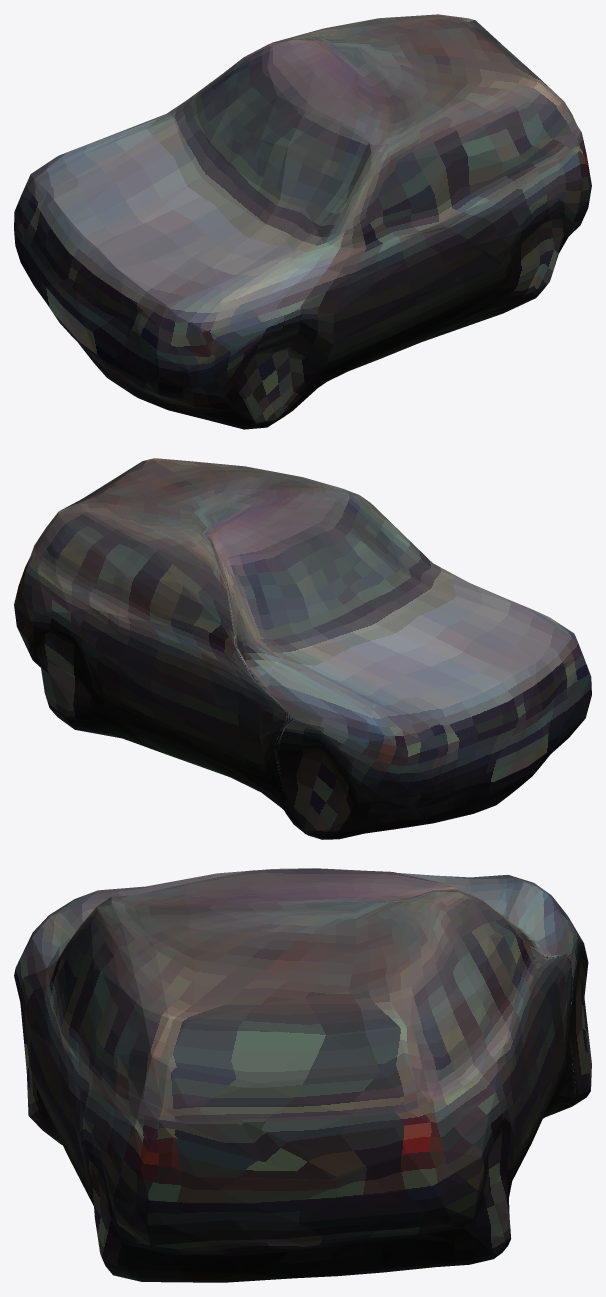
The model's file is video3_195.obj.
The picture shows the model from 3 angles, top to bottom: view 1: azimuth 30°, elevation 25°; view 2: azimuth 150°, elevation 25°; view 3: azimuth 270°, elevation 25°; orthographic projection. The views are drawn at different scales.
Bounding box in the file's own units: 1 × 0.505 × 0.7327.
1 material, 1 textured.
